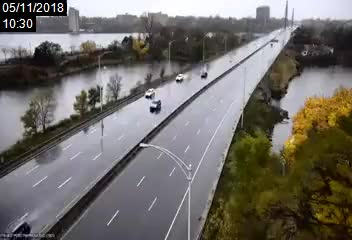personal_car: (3, 220, 32, 240), (150, 99, 162, 110), (144, 88, 155, 98), (175, 73, 184, 82), (200, 70, 208, 79)
